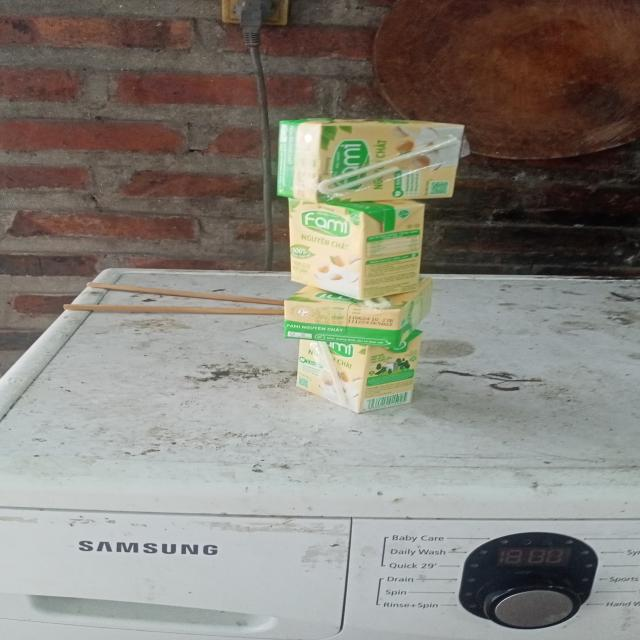Fami: (277, 121, 464, 204), (290, 197, 427, 302), (284, 278, 435, 350), (296, 331, 425, 414)
